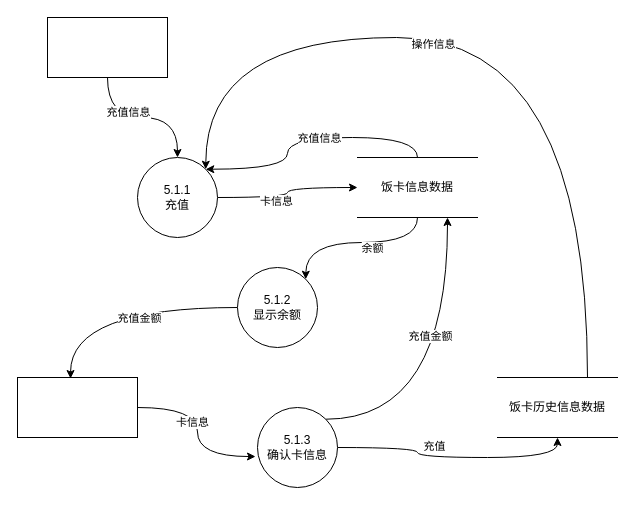
This 635x505 diagram has some shape labels left out. Here are the shapes that lost their labels. From the top down, the box of each, then its label:
(46, 16, 168, 78): 学生/教职工
(16, 376, 138, 438): 刷卡机
